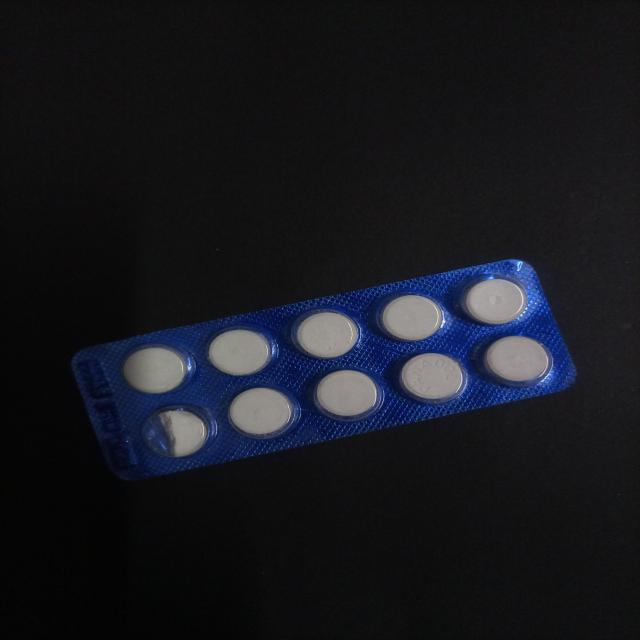defect: (137, 400, 216, 462)
